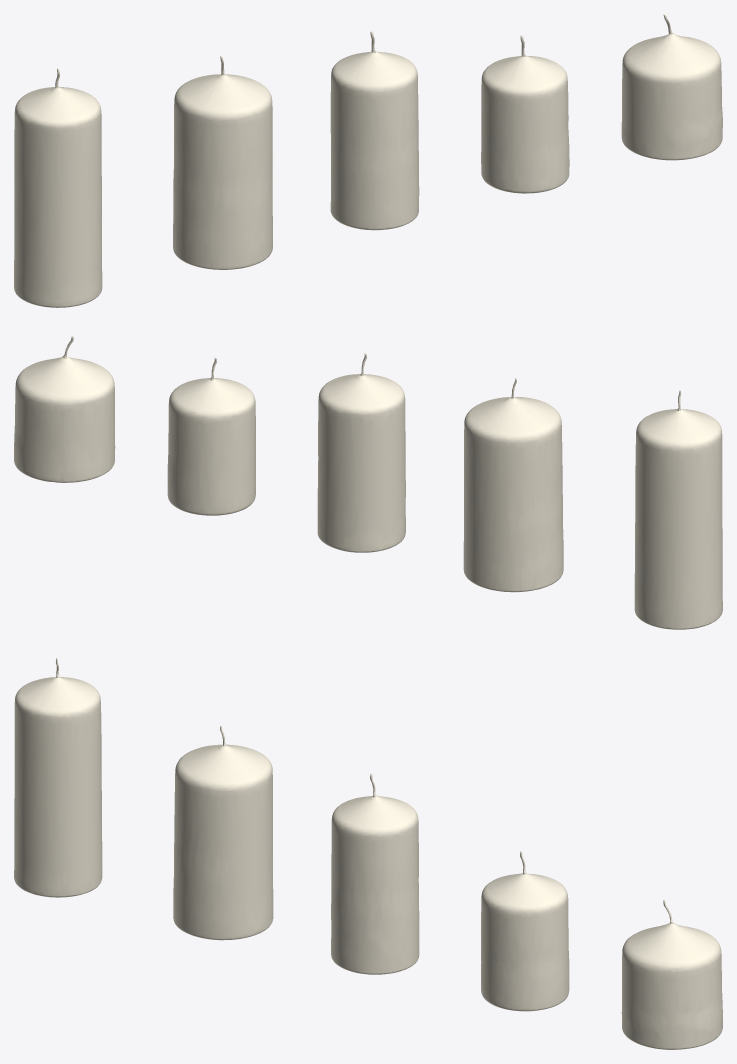
Rendered from LB-CANDLE-02.glb.
3 views of the same model, one above another, from view 1: azimuth 30°, elevation 25°; view 2: azimuth 150°, elevation 25°; view 3: azimuth 330°, elevation 25° (orthographic).
Size of the model in its own units: 0.5348 by 0.1639 by 0.0674.
1 material, 1 textured.
